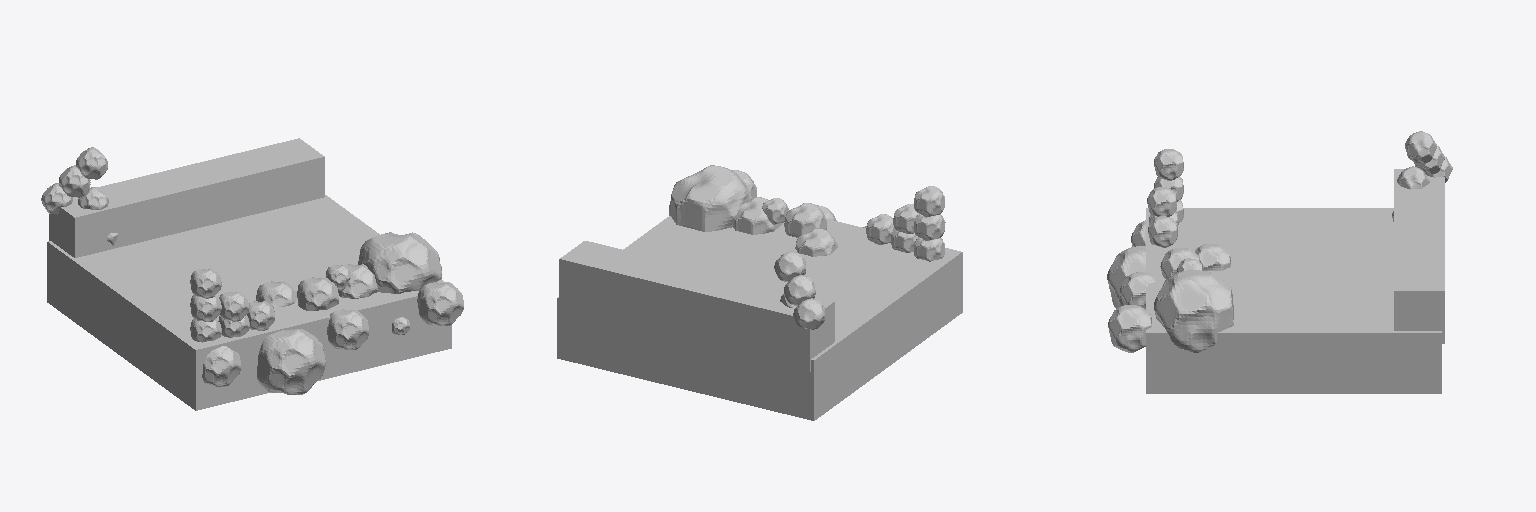
Rendered from platform3.obj.
3 views of the same model, side by side, from view 1: azimuth 30°, elevation 25°; view 2: azimuth 150°, elevation 25°; view 3: azimuth 270°, elevation 25° (orthographic).
Parts seen in each view (by area): view 1: 1_cube; view 2: 1_cube; view 3: 1_cube.
Part boxes in pixels (x1,y1,x2,y2): 1_cube: (41, 138, 463, 410); 1_cube: (557, 165, 962, 420); 1_cube: (1107, 131, 1452, 393).
Size of the model in its own units: 4.31 by 2.4 by 4.81.